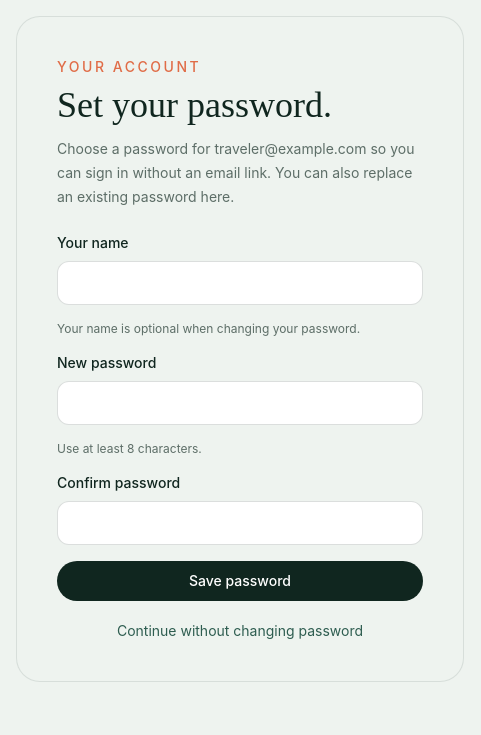
Test: does not change the profile when password recovery fails
Type "Alex" into the field labelled "Your name" at {"x": 240, "y": 283}, box top-left (57, 261), bottom-right (423, 305)
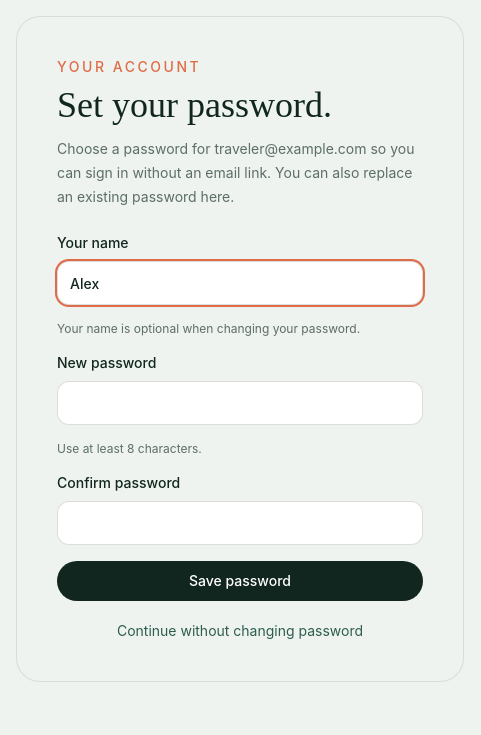
Type "password123" into the password field labelled "New password" at {"x": 240, "y": 403}, box top-left (57, 381), bottom-right (423, 425)
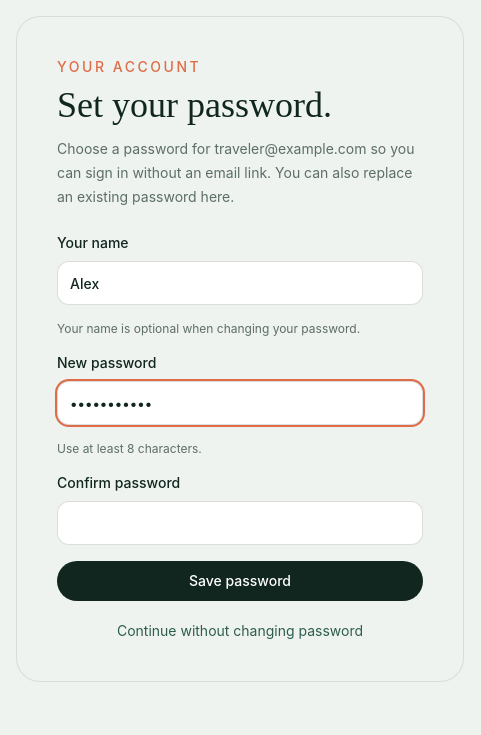
Type "password123" into the password field labelled "Confirm password" at {"x": 240, "y": 523}, box top-left (57, 501), bottom-right (423, 545)
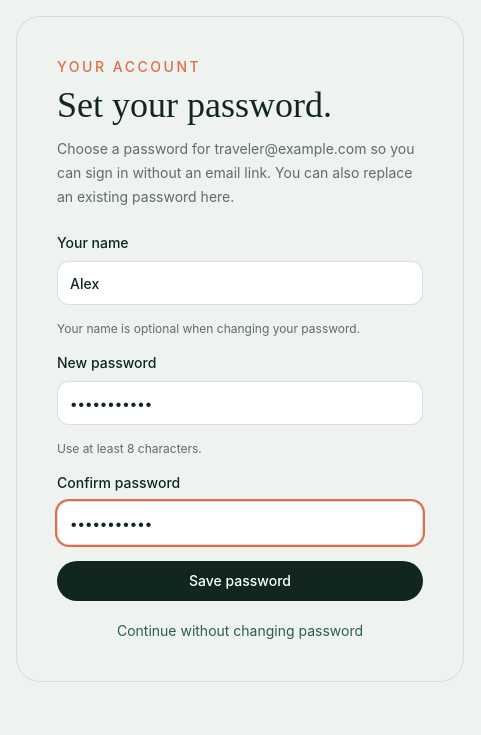
Click the button "Save password" at {"x": 240, "y": 581}, box top-left (57, 561), bottom-right (423, 601)
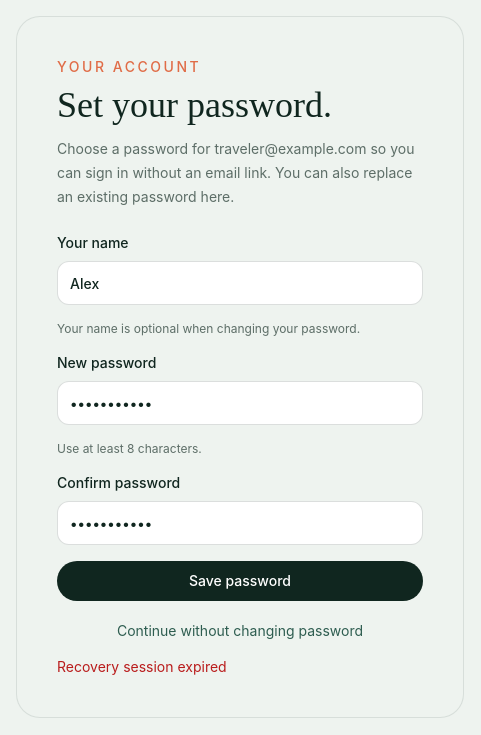
Expected: the message reads "Recovery session expired", top-left (57, 658), bottom-right (227, 675)
